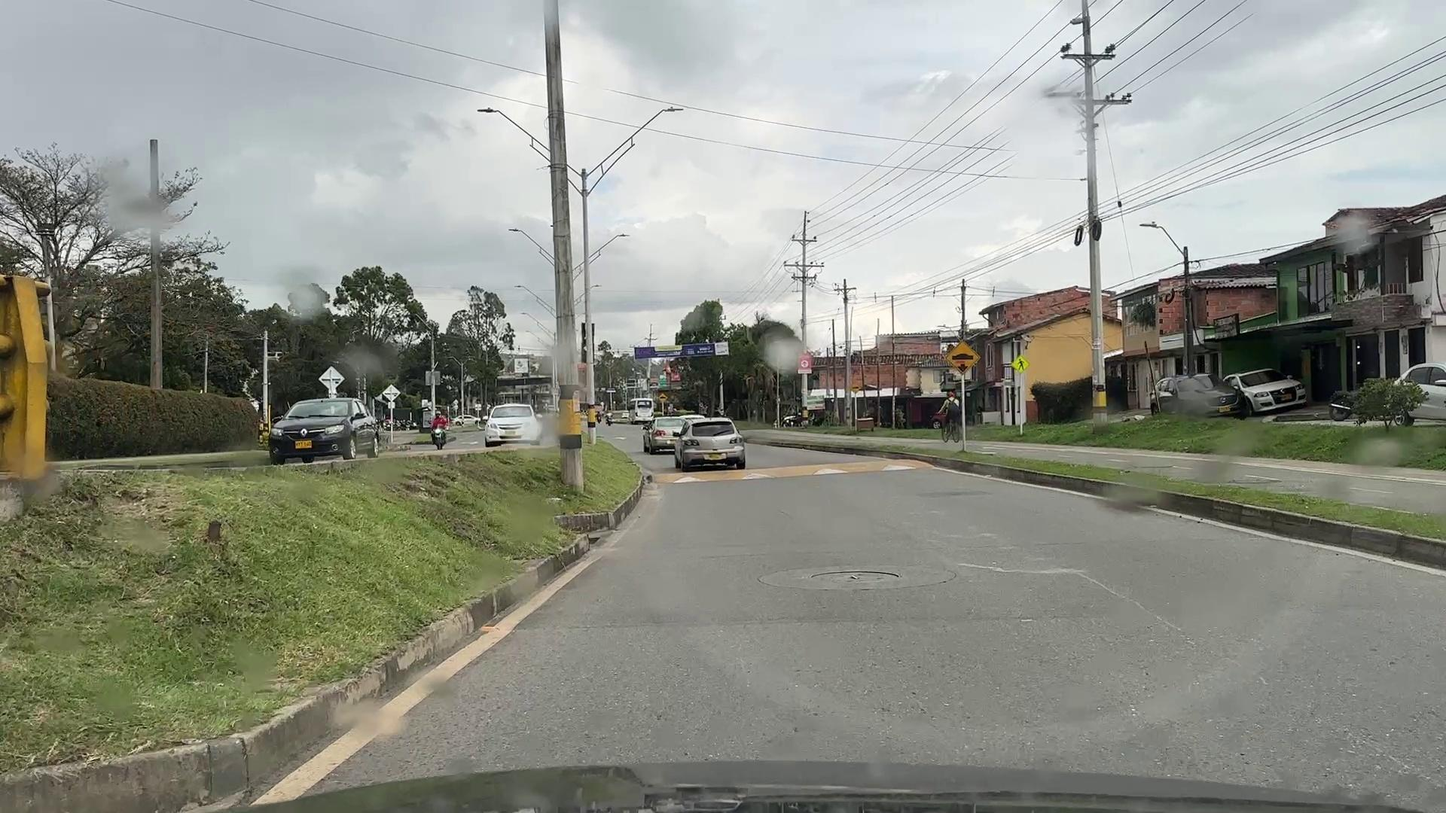registro: (812, 571, 900, 582)
